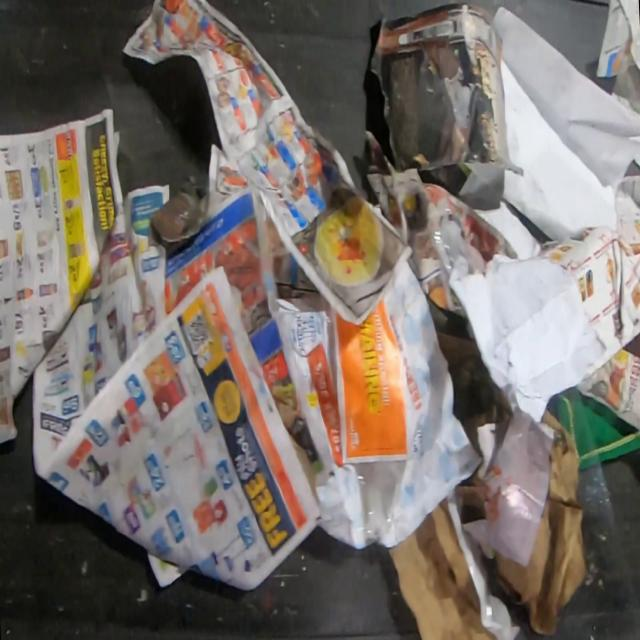cardboard: (456, 406, 588, 634), (389, 500, 484, 638)
rigid_plastic: (541, 406, 640, 640)
soft_plastic: (355, 460, 404, 545), (434, 209, 476, 279)
